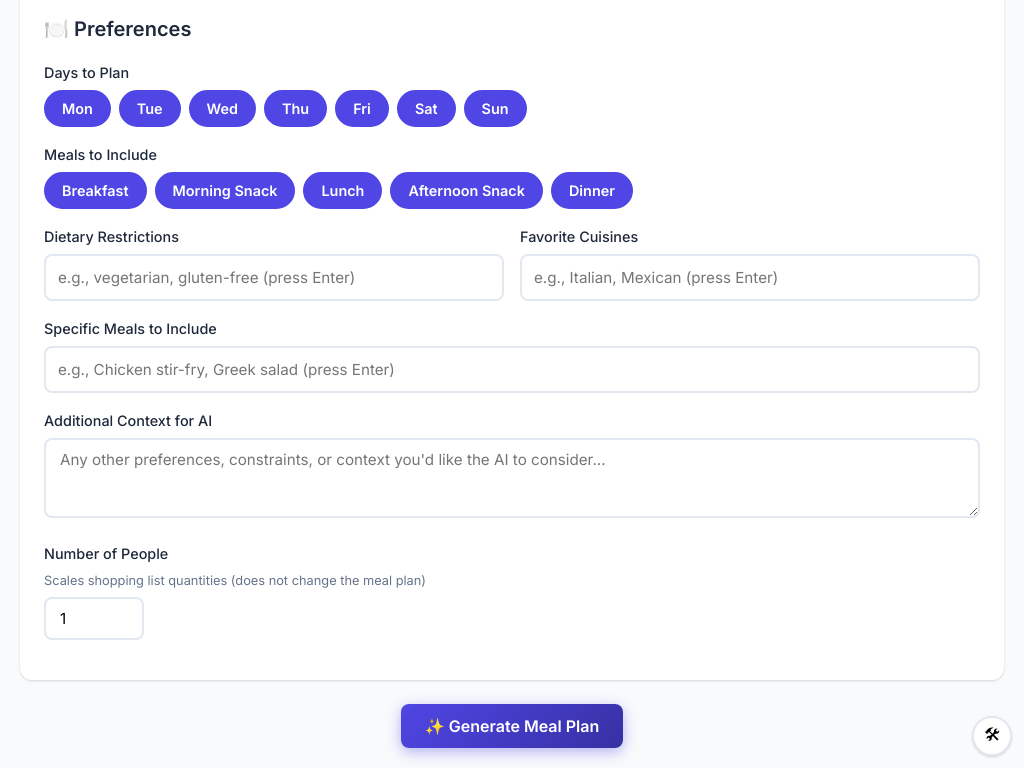
App › shows loading state when generating
This screenshot has width=1024, height=768.
(page scrolled)
What coordinates should you click on to do the following:
click the button "✨ Generate Meal Plan"
I would click on:
 (512, 726)
Its box is [401,704,623,748].
(page scrolled)
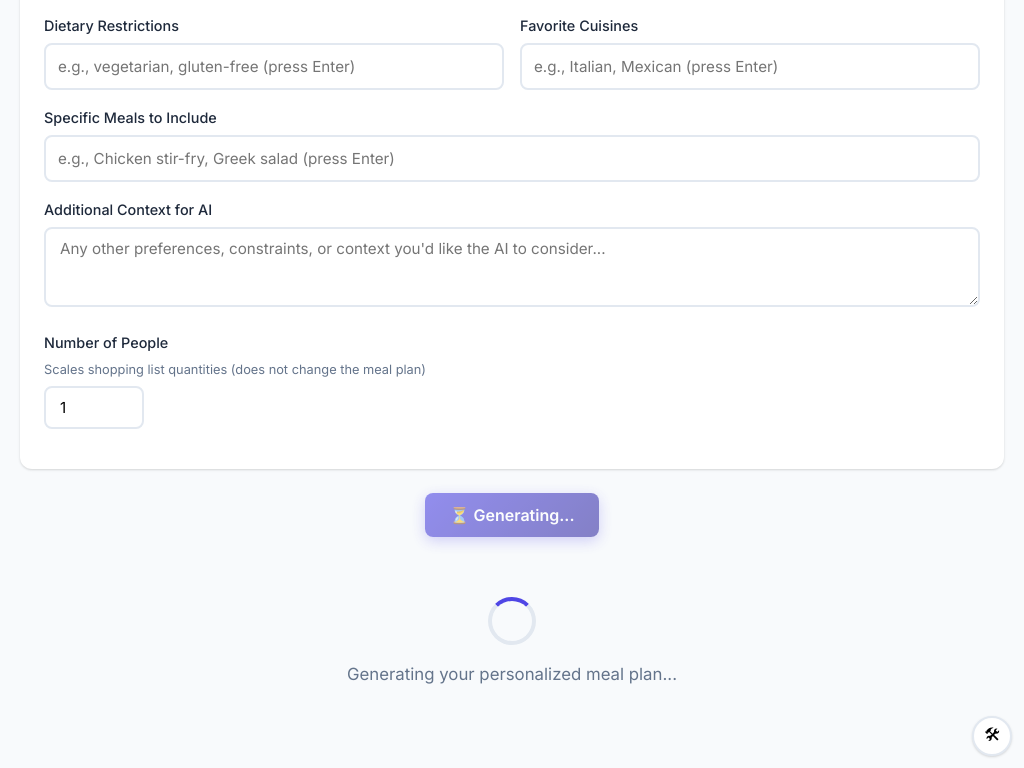
Result: the text "Generating your personalized meal plan..." is shown at [347,661,677,688]
